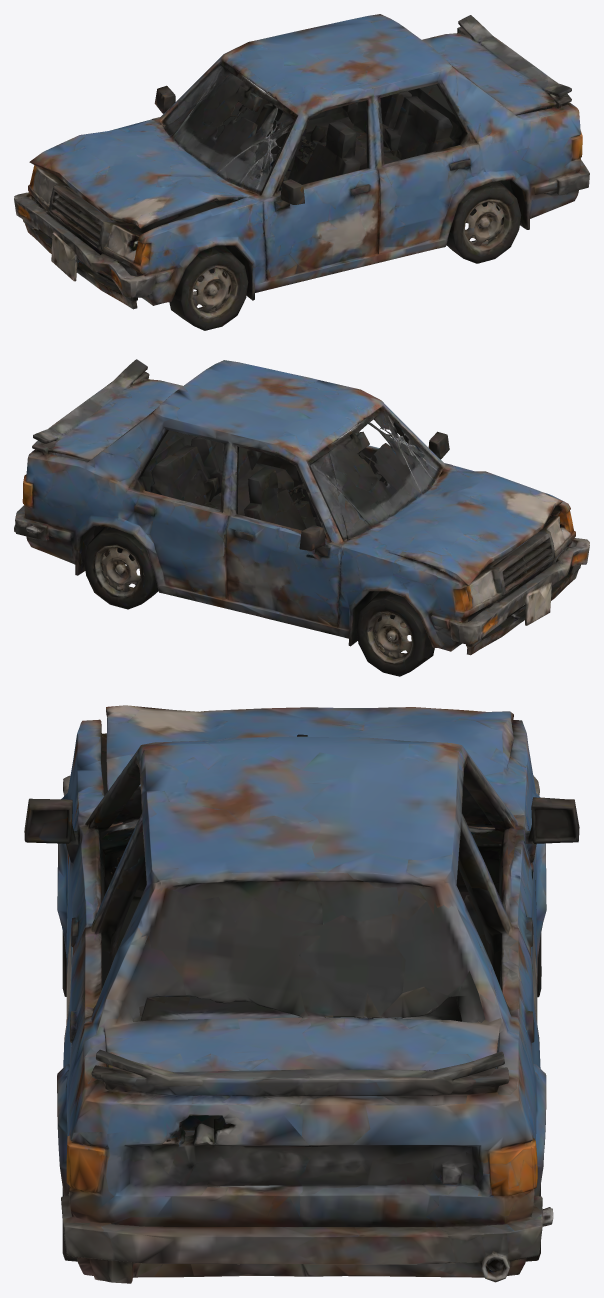
The model's file is onvoro.glb.
The picture shows the model from 3 angles, top to bottom: view 1: azimuth 30°, elevation 25°; view 2: azimuth 150°, elevation 25°; view 3: azimuth 270°, elevation 25°; orthographic projection. The views are drawn at different scales.
Bounding box in the file's own units: 1.9 × 0.7072 × 0.9568.
Materials: 1 (1 with a texture image).
